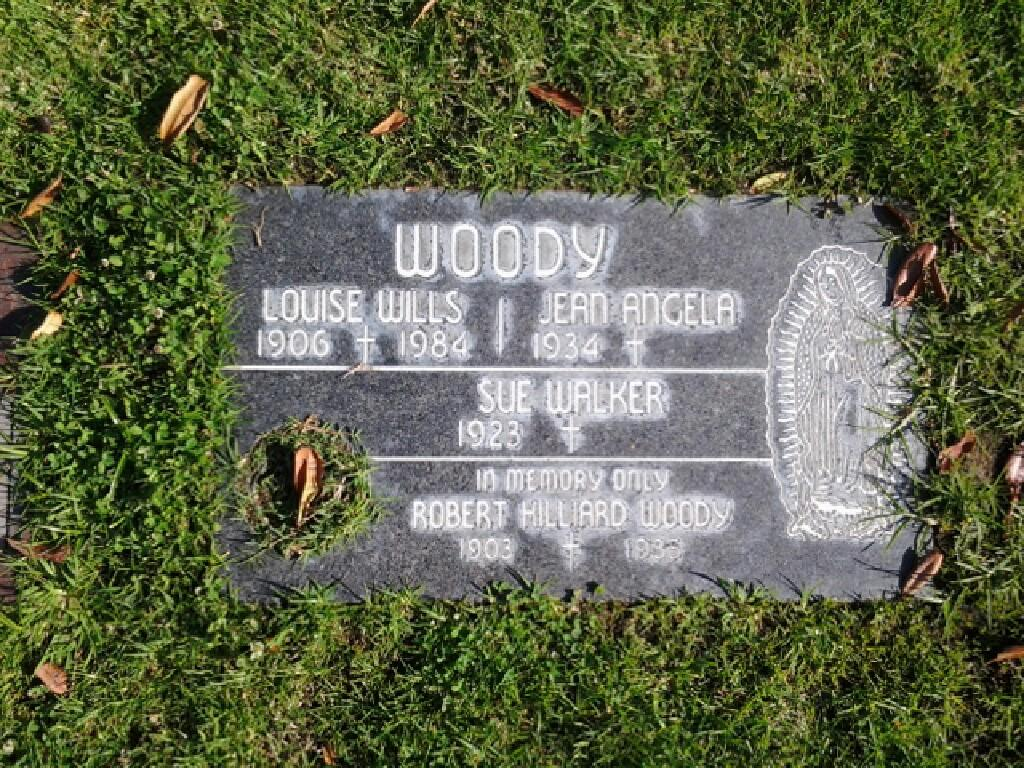flat: (214, 184, 932, 596)
